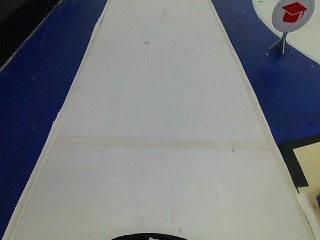school: (274, 0, 309, 36)
